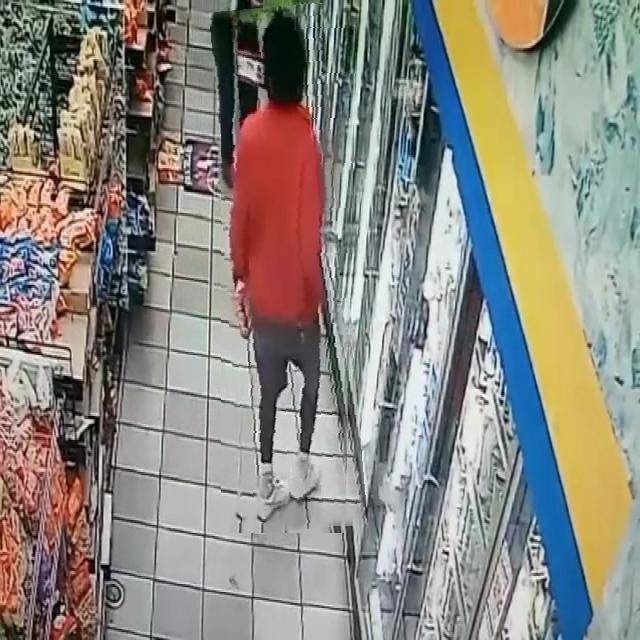Normal: (221, 5, 357, 533)
